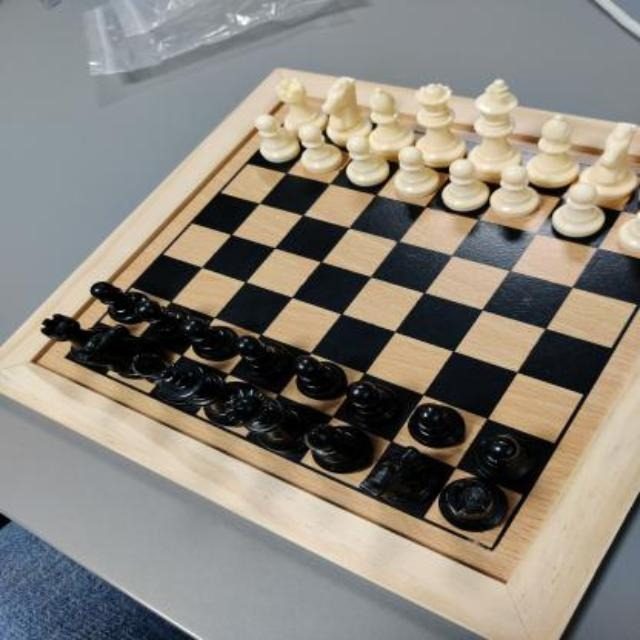black-bishop: (304, 424, 371, 474), (130, 353, 168, 380)
black-king: (157, 364, 263, 427)
black-knight: (359, 445, 435, 506), (78, 325, 154, 380)
black-pawn: (473, 432, 537, 479), (407, 402, 468, 449), (90, 279, 152, 325), (182, 316, 242, 362), (292, 354, 348, 400), (234, 334, 292, 378), (347, 380, 402, 424), (134, 299, 192, 339)
black-queen: (228, 390, 314, 448)
black-rook: (439, 476, 511, 532), (42, 313, 112, 357)
white-bishop: (524, 115, 580, 187), (368, 87, 416, 155)
white-king: (467, 79, 523, 179)
white-knight: (580, 122, 640, 202), (322, 75, 374, 145)
white-pawn: (550, 183, 606, 241), (490, 164, 540, 220), (441, 158, 488, 213), (395, 145, 439, 198), (255, 113, 302, 162), (346, 136, 390, 188), (300, 124, 344, 173)
white-queen: (415, 83, 468, 164)
white-rook: (276, 78, 328, 134)
